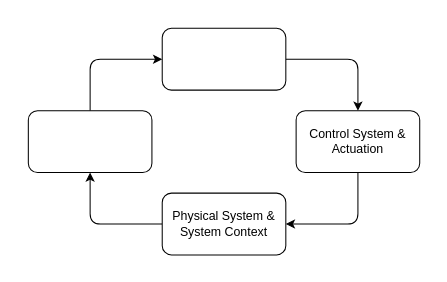
Image size: 447x282. Some labels were removed from this diagram. Here are the shapes that lost their labels. From the top down, the centre of each, then its label:
At (x=223, y=58): "Digital Modelling & Simulation".
At (x=89, y=141): "Data Collection & Online Learning".
